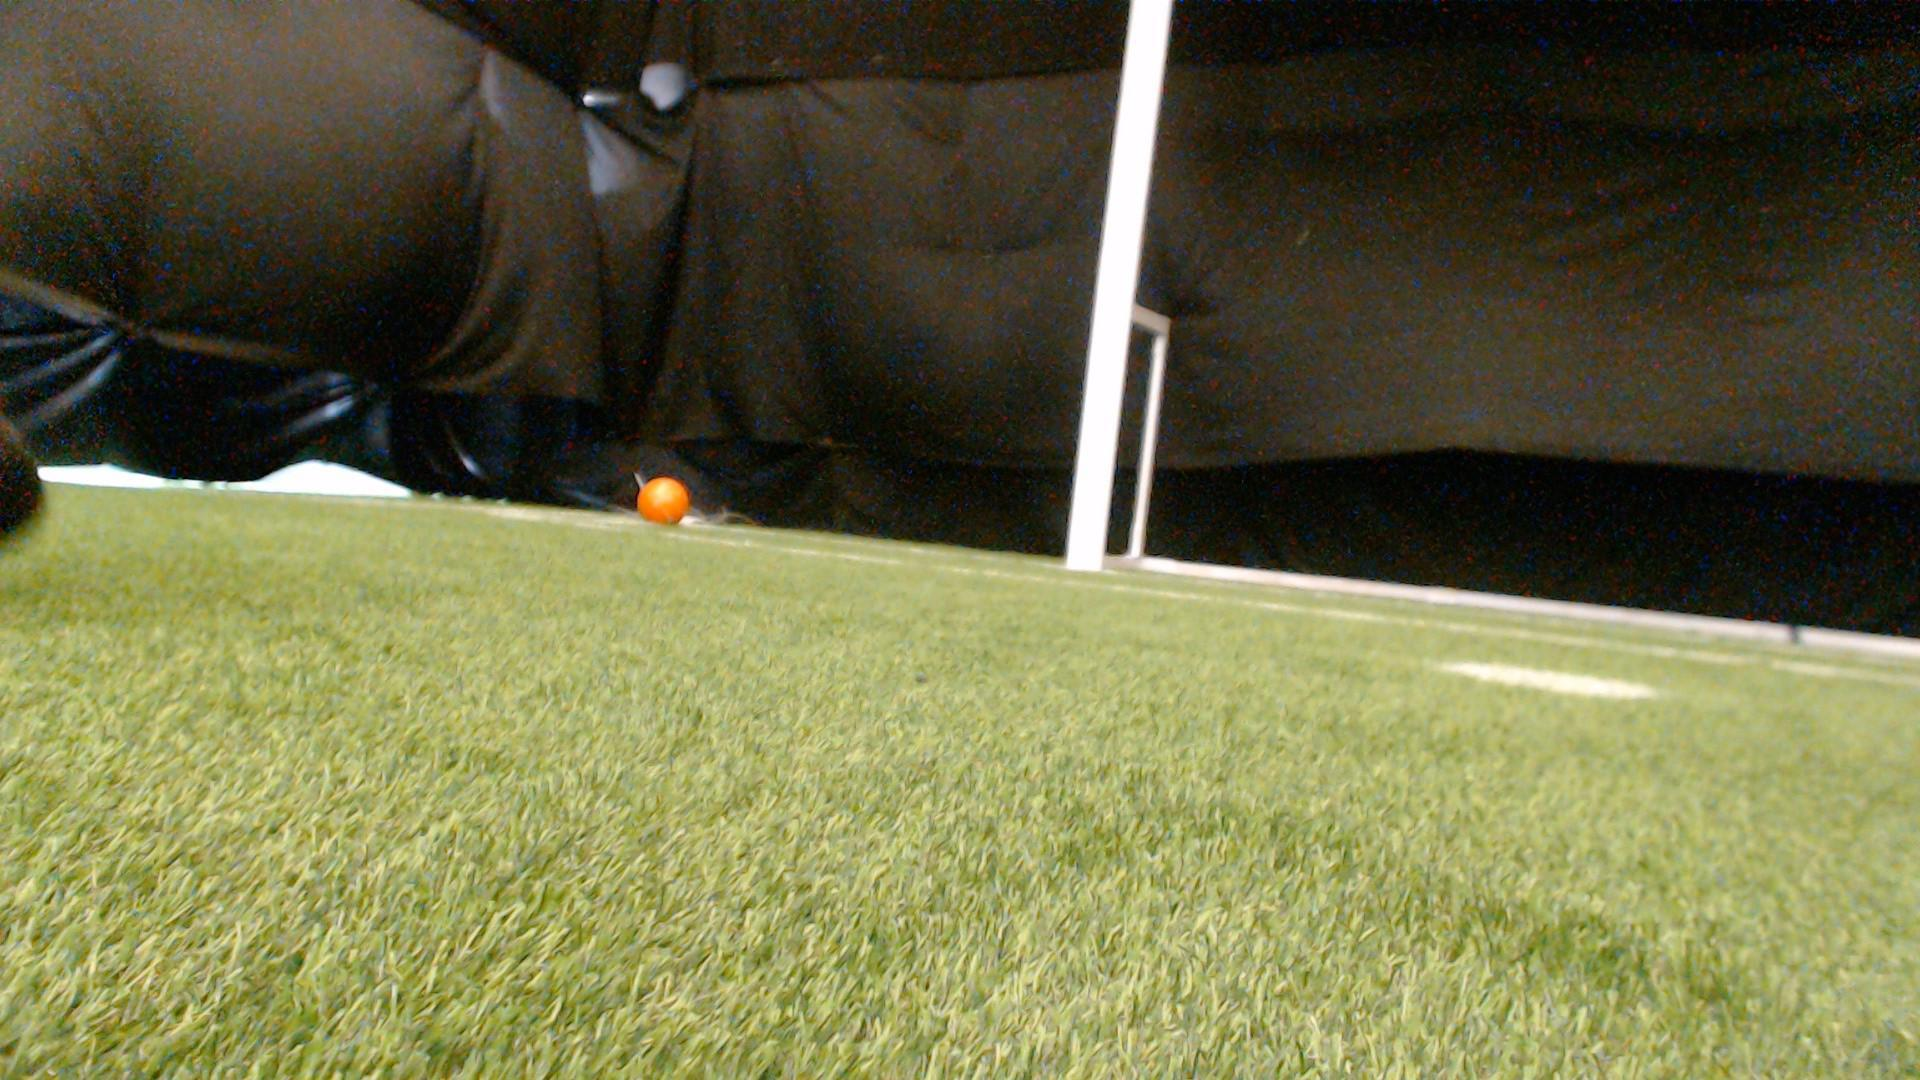bola: (634, 476, 696, 538)
